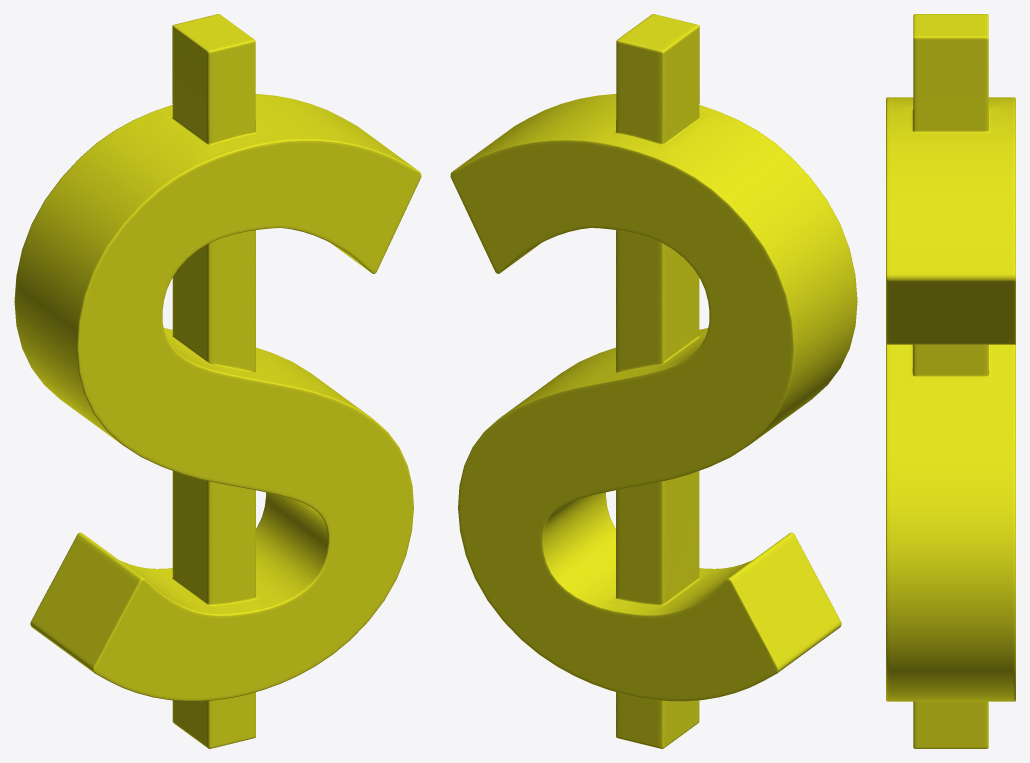
The model's file is dollarCompressedGLB.glb.
The picture shows the model from 3 angles, left to right: view 1: azimuth 30°, elevation 25°; view 2: azimuth 150°, elevation 25°; view 3: azimuth 270°, elevation 25°; orthographic projection. The views are drawn at different scales.
Visible parts, largest first — view 1: mesh_id5; view 2: mesh_id5; view 3: mesh_id5.
Part boxes in pixels (x1,y1,x2,y2): mesh_id5: [14, 14, 421, 748]; mesh_id5: [450, 14, 857, 748]; mesh_id5: [886, 14, 1015, 748].
Bounding box in the file's own units: 8.97 × 17.38 × 2.87.
